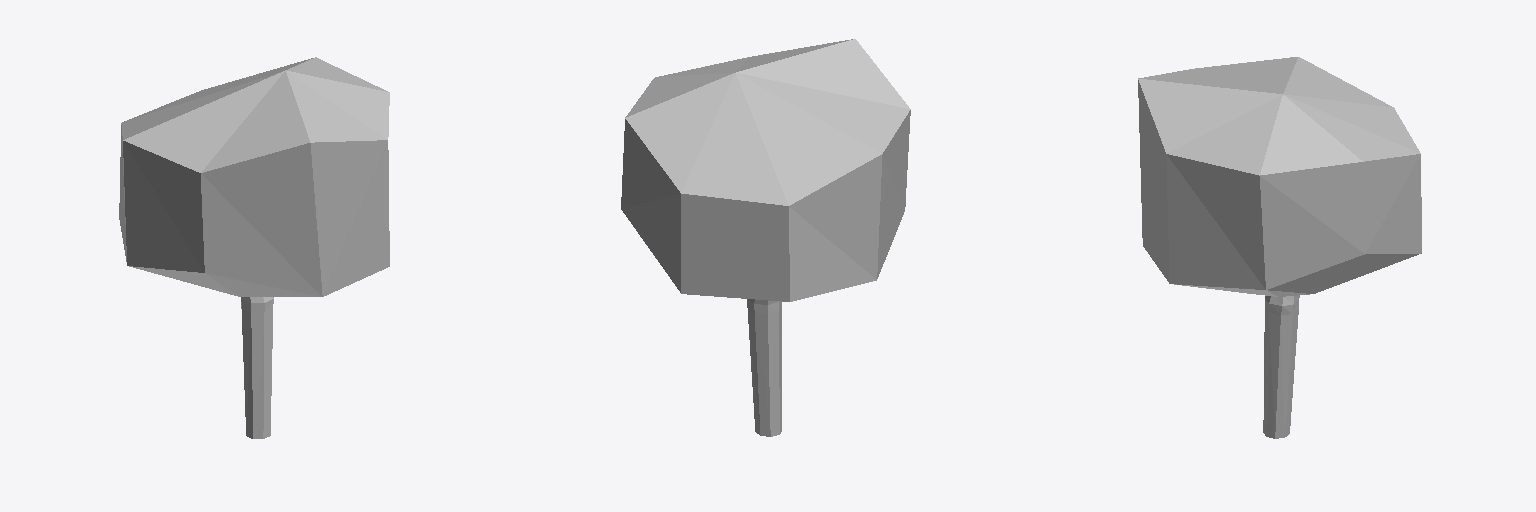
The model's file is circle_Tree1.obj.
The picture shows the model from 3 angles: view 1: azimuth 30°, elevation 25°; view 2: azimuth 150°, elevation 25°; view 3: azimuth 270°, elevation 25°; orthographic projection.
Parts seen in each view (by area): view 1: weird_Tree2:pCylinder1; view 2: weird_Tree2:pCylinder1; view 3: weird_Tree2:pCylinder1.
Boxes of the visible parts, x1,y1,x2,y2 form: weird_Tree2:pCylinder1: [119, 57, 389, 438]; weird_Tree2:pCylinder1: [621, 39, 910, 436]; weird_Tree2:pCylinder1: [1138, 57, 1421, 438].
Bounding box in the file's own units: 84.88 × 116 × 84.35.